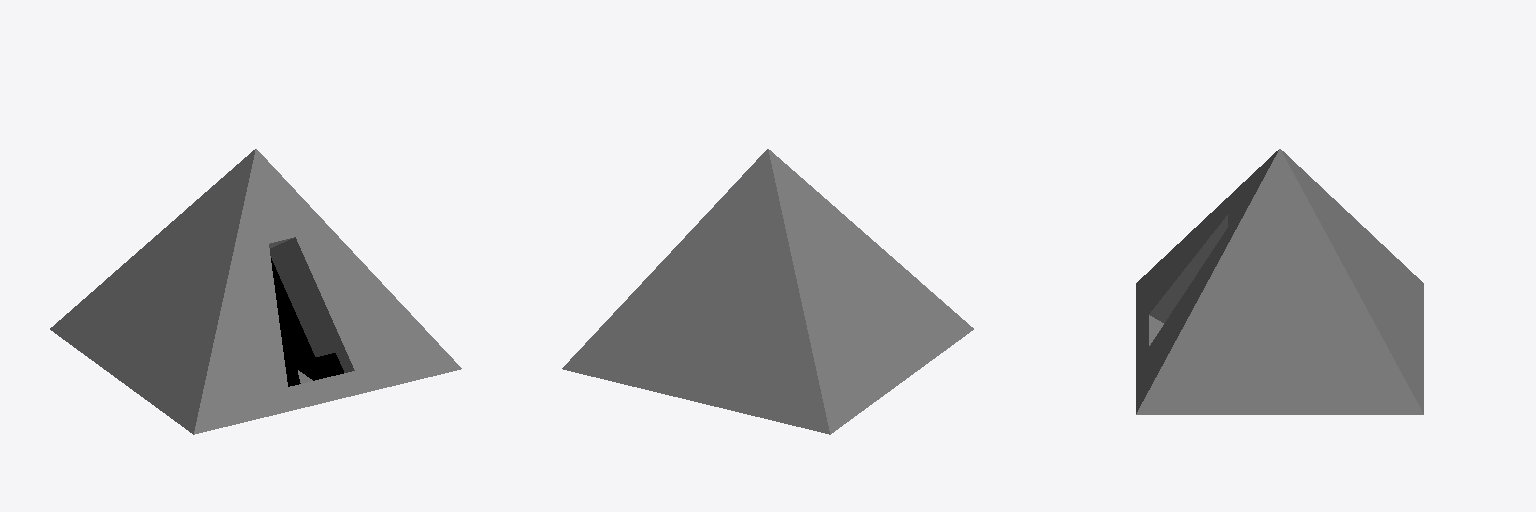
File: piramid.obj
3 views of the same model, side by side, from view 1: azimuth 30°, elevation 25°; view 2: azimuth 150°, elevation 25°; view 3: azimuth 270°, elevation 25° (orthographic).
Parts seen in each view (by area): view 1: Cube_Cube.001; view 2: Cube_Cube.001; view 3: Cube_Cube.001.
Boxes of the visible parts, x1=… form: Cube_Cube.001: x1=50, y1=149, x2=461, y2=434; Cube_Cube.001: x1=562, y1=149, x2=973, y2=434; Cube_Cube.001: x1=1136, y1=149, x2=1423, y2=414.
Bounding box in the file's own units: 28 × 21.45 × 26.